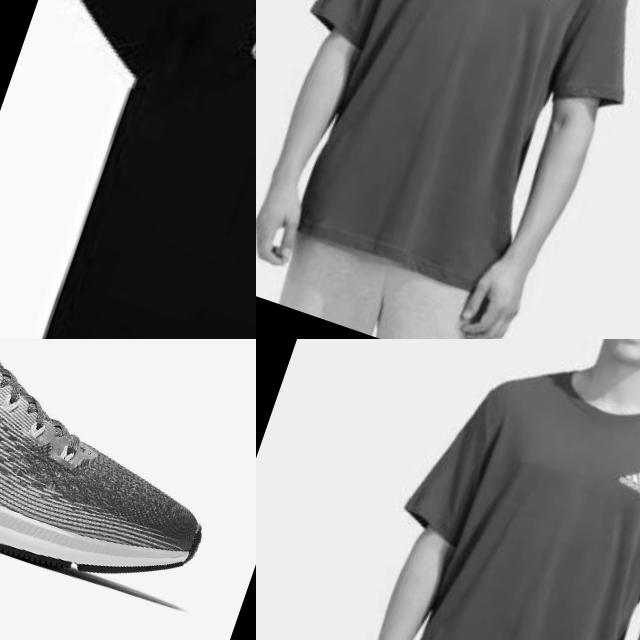ADIDAS_original: (611, 459, 640, 502)
PUMA_original: (183, 0, 256, 251)
